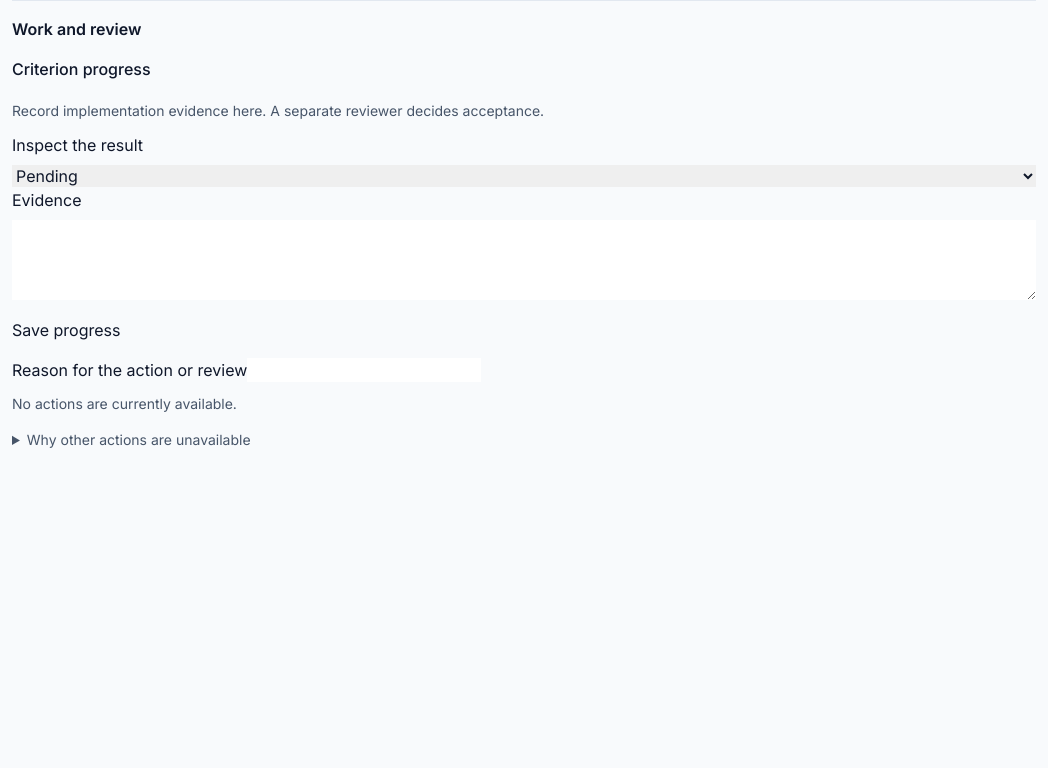
criterion progress saves › retains evidence after a save conflict and uses the displayed task version
The image size is (1048, 768).
Select "Implemented" in the dropdown labelled "Inspect the result" at (524, 176), box [12,165,1036,187]
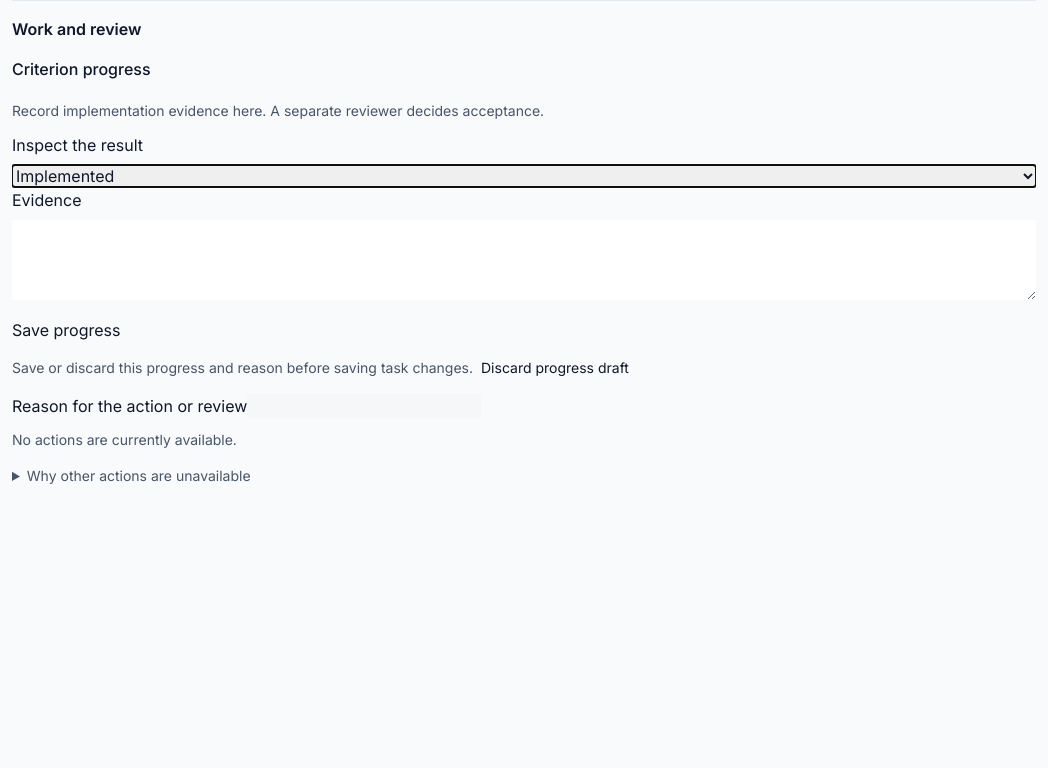
Type "Observed the result directly" into the text box labelled "Evidence".
click(524, 260); type("Observed the result directly")  # box [12,220,1036,300]
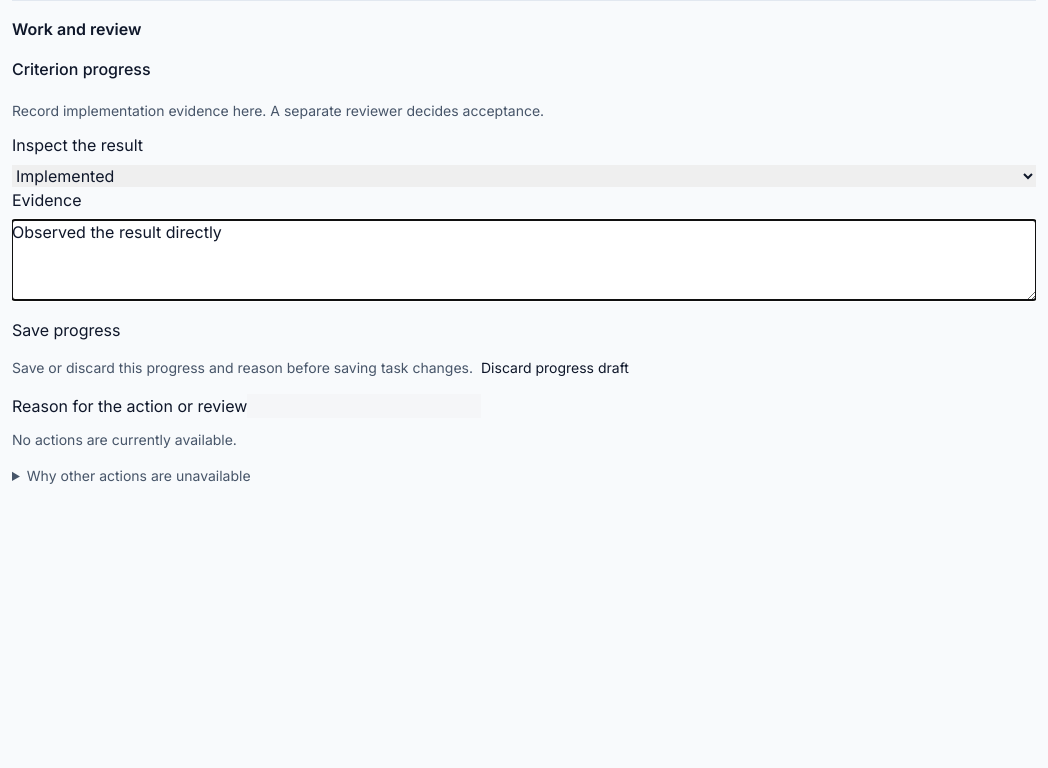
Click the button "Save progress".
click(66, 330)  # box [12,318,120,342]
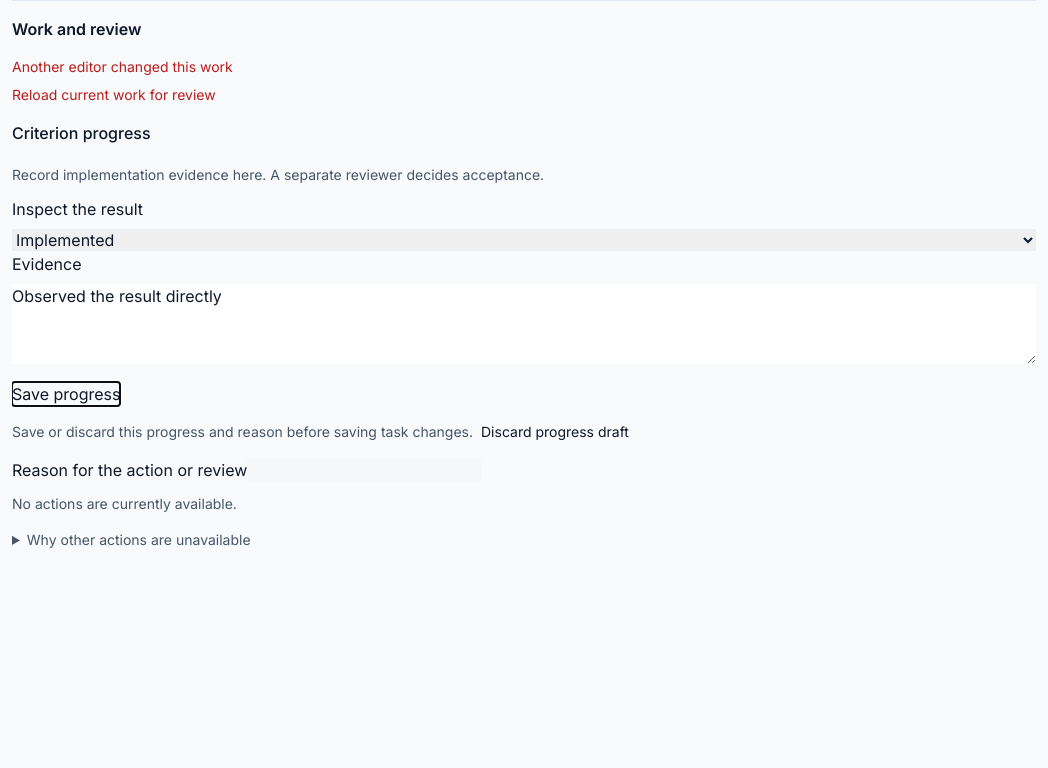
Expected: the text "Another editor changed this work" is shown, [12,58,233,75]
